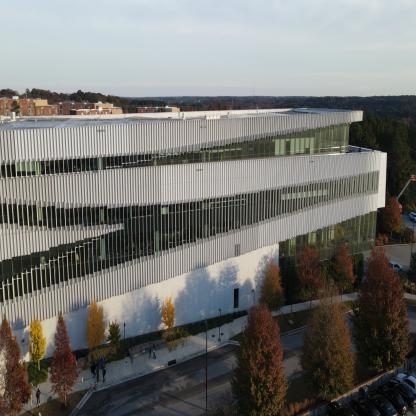Hunt Library: (0, 105, 395, 379)
